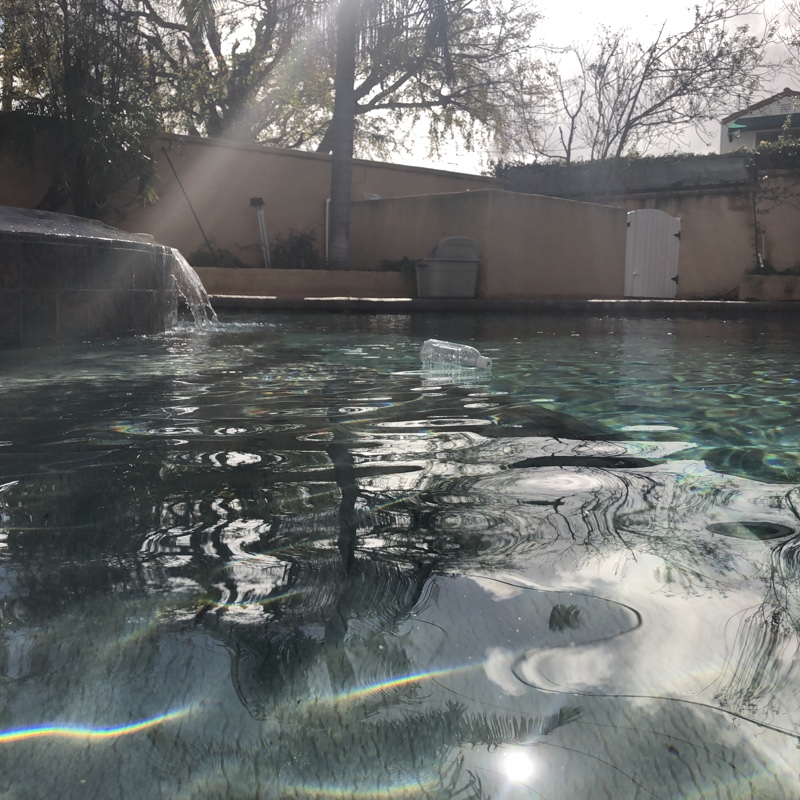Plastic Bottle: (413, 336, 495, 378)
